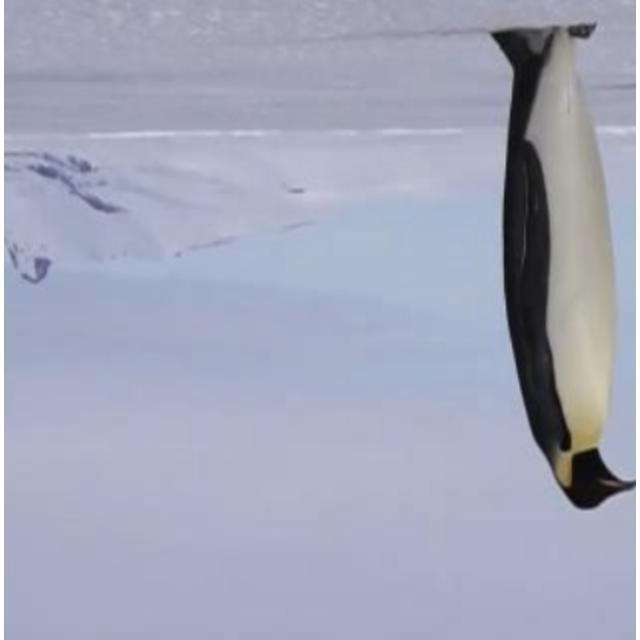penguin: (489, 22, 634, 510)
